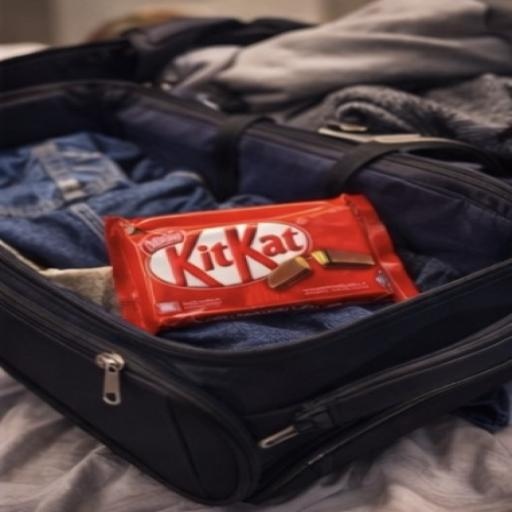kitkat: (94, 190, 454, 351)
